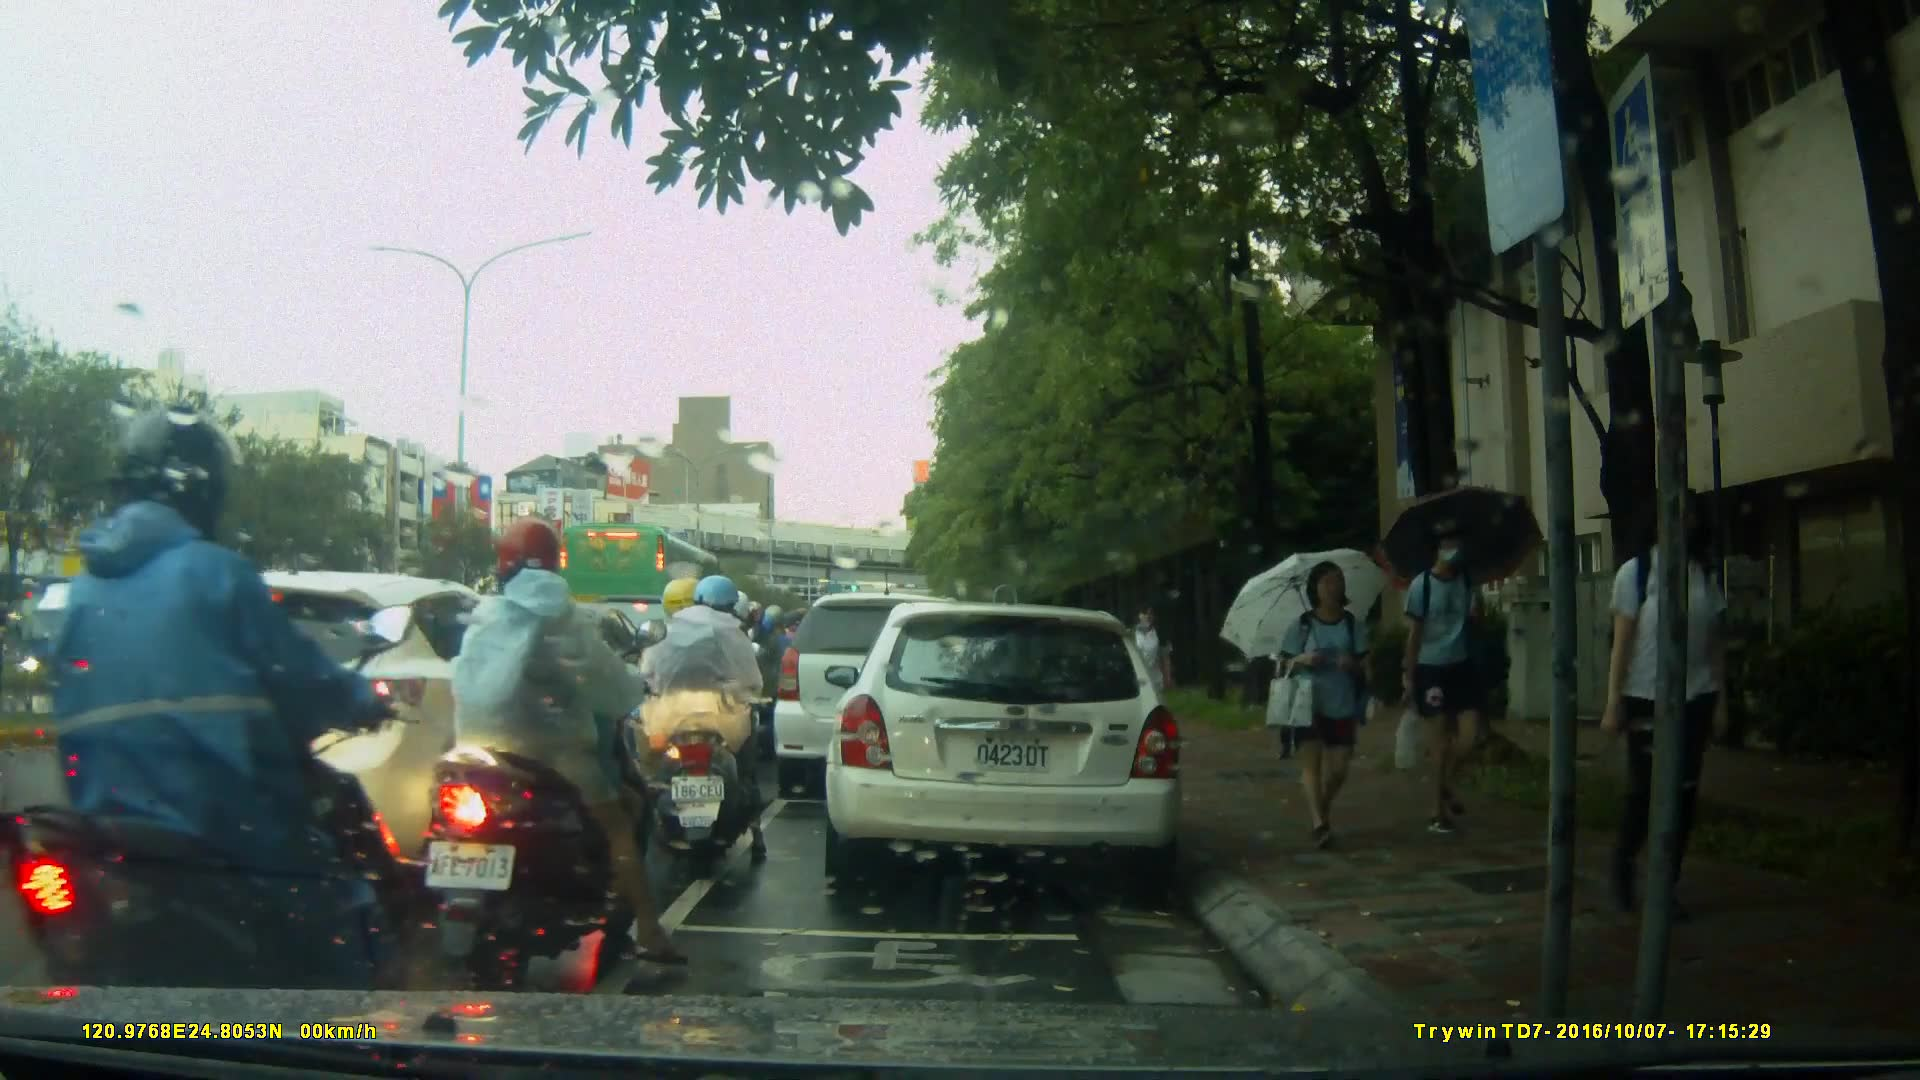pedestrian: (1600, 477, 1735, 925), (1386, 526, 1513, 847), (1274, 554, 1392, 863), (1269, 571, 1320, 770), (1126, 597, 1176, 756)
rider: (11, 401, 423, 1063), (422, 515, 696, 979), (621, 581, 775, 869), (664, 589, 762, 804)
vehicle: (99, 569, 596, 883), (822, 604, 1187, 883), (774, 595, 995, 802), (558, 521, 741, 664), (20, 576, 199, 697)
